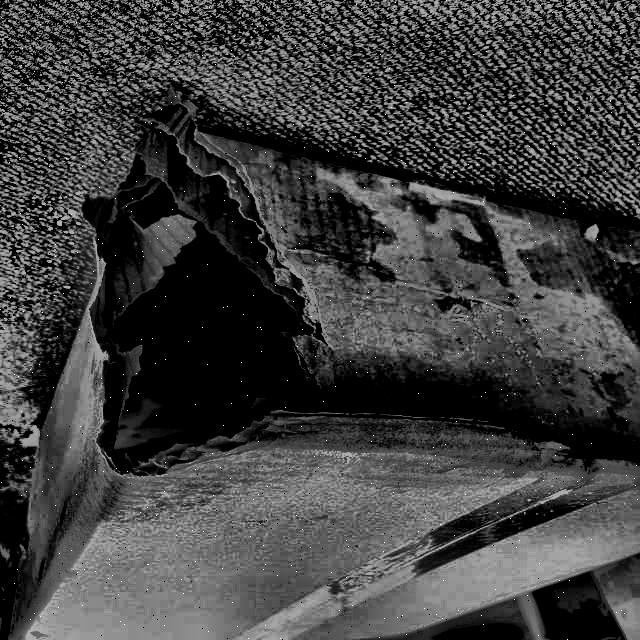box: (0, 143, 640, 640)
hole: (73, 101, 350, 483)
